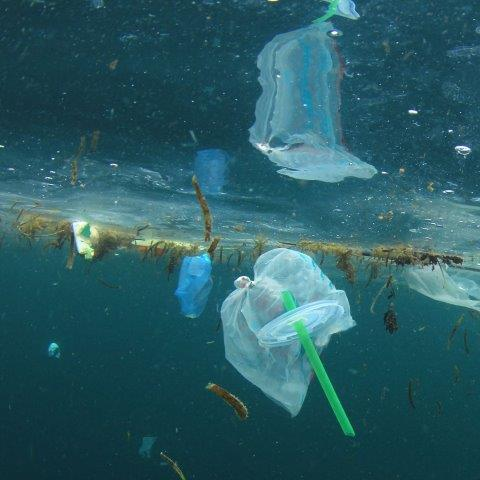sedotan: (280, 289, 352, 434)
